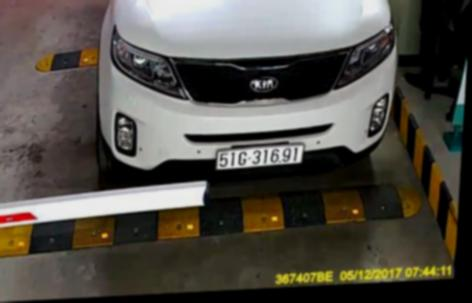License_Plate: (212, 140, 305, 172)
